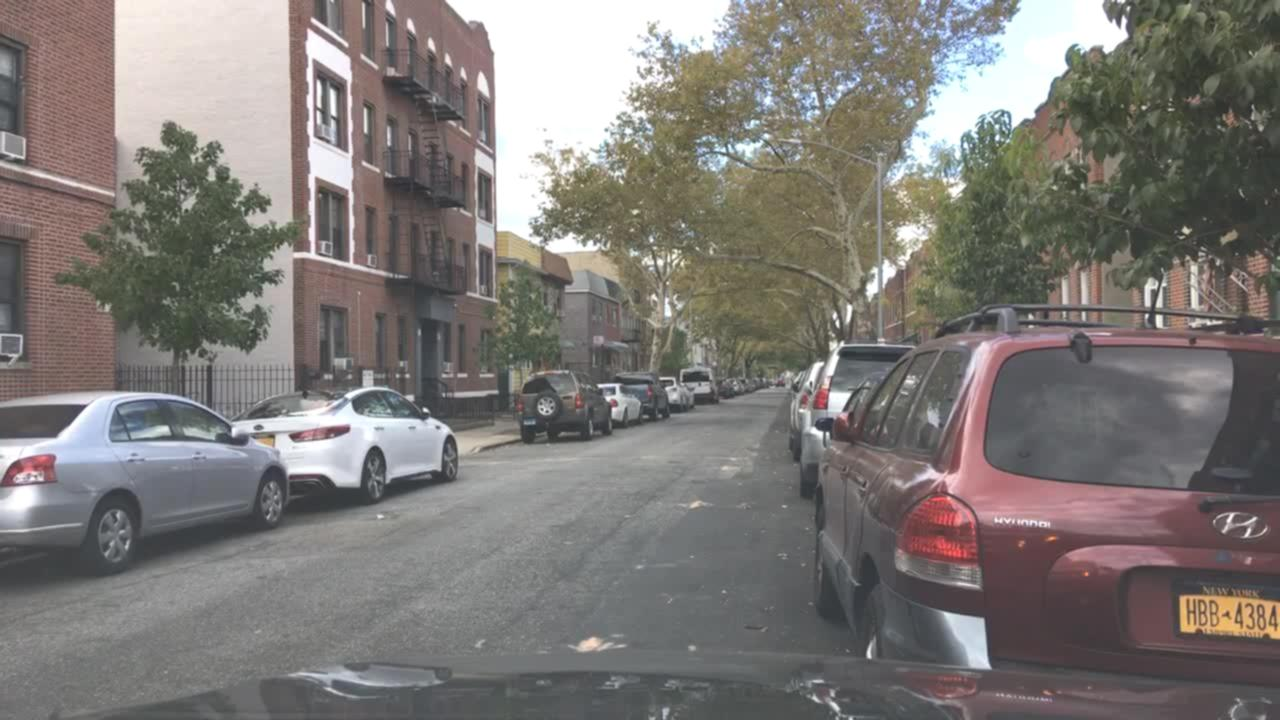Hyundai: (1195, 499, 1278, 553)
